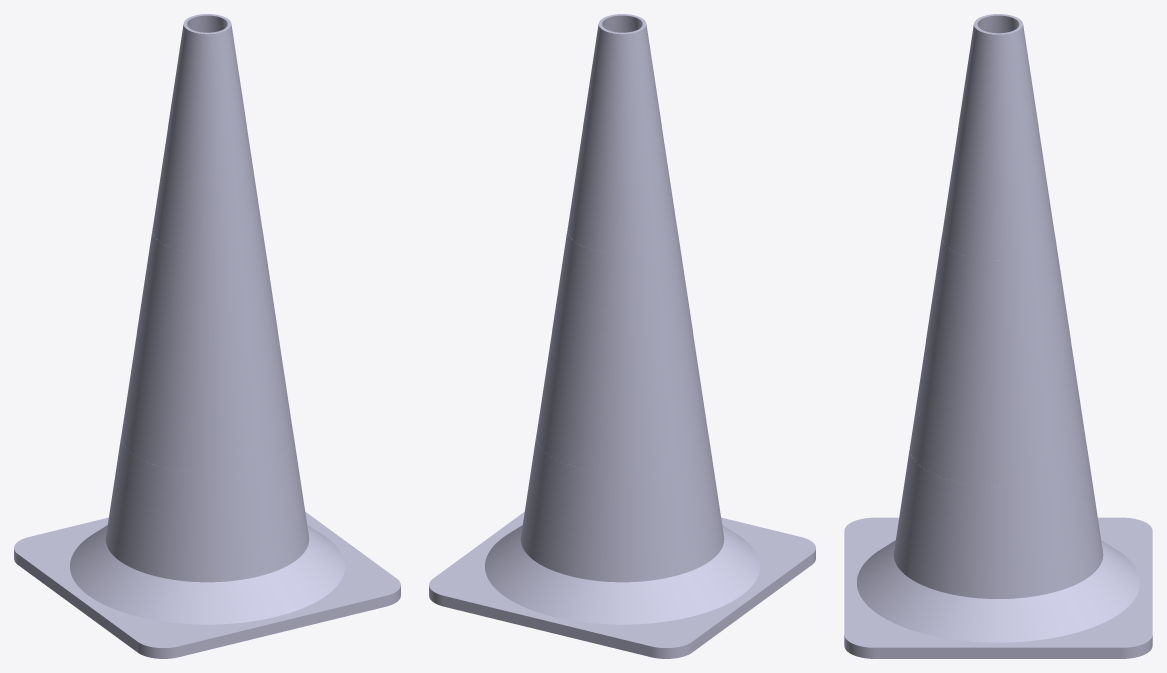
Rendered from pylon.gltf.
3 views of the same model, side by side, from view 1: azimuth 30°, elevation 25°; view 2: azimuth 150°, elevation 25°; view 3: azimuth 270°, elevation 25° (orthographic). The views are drawn at different scales.
Visible parts, largest first — view 1: pylon_clone; view 2: pylon_clone; view 3: pylon_clone.
Part boxes in pixels (x1=…): pylon_clone: x1=14, y1=14, x2=400, y2=658; pylon_clone: x1=429, y1=14, x2=815, y2=658; pylon_clone: x1=844, y1=14, x2=1152, y2=658.
Bounding box in the file's own units: 0.25 × 0.51 × 0.25.
